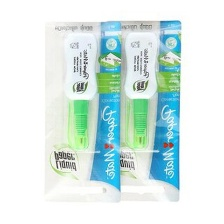book: (101, 19, 182, 205), (41, 19, 122, 203)
correction_fluid: (119, 30, 160, 152), (60, 31, 99, 152)
